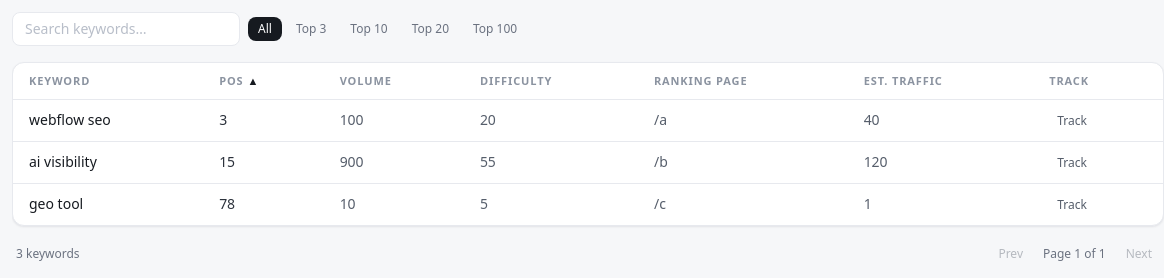
OrganicKeywordsTable › the search box filters by keyword text
Type "geo" into the field with placeholder "Search keywords…". click: point(126, 29)
box: top-left (12, 12), bottom-right (240, 46)
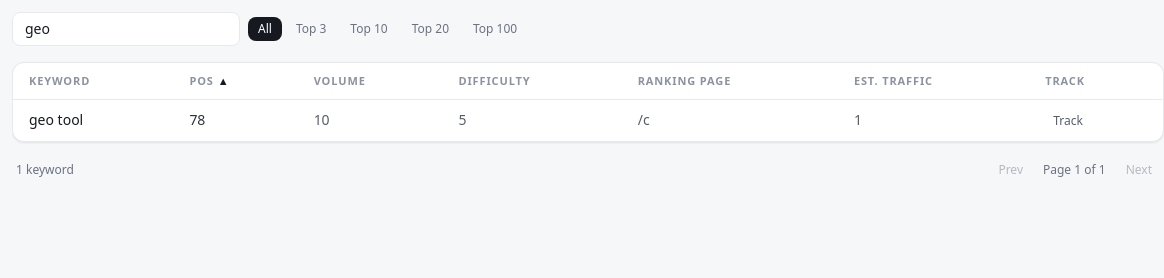
Expected: the text "geo tool" is shown, top-left (13, 99), bottom-right (173, 141)
Now the text "webflow seo" is gone
